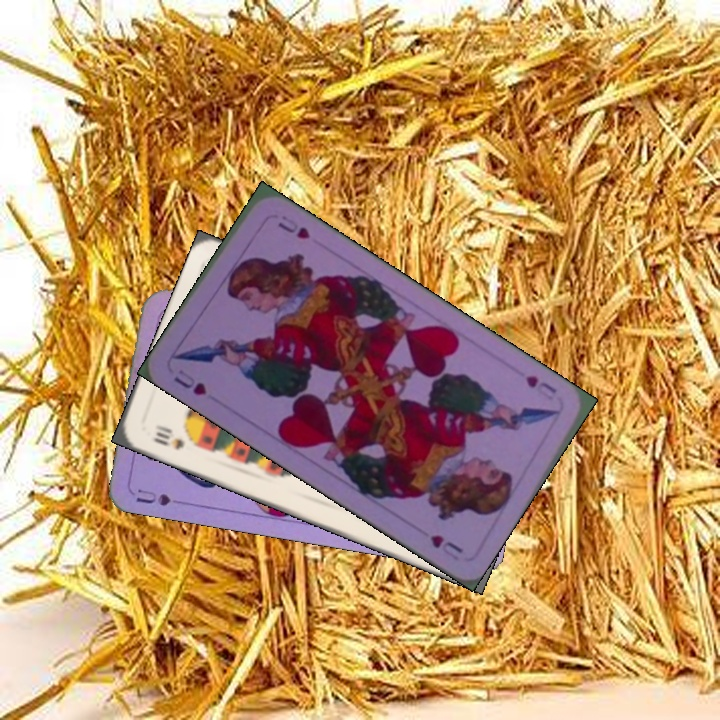HU: (169, 365, 209, 398), (521, 371, 560, 404)
S10: (150, 421, 187, 453)
SU: (132, 484, 191, 509)
